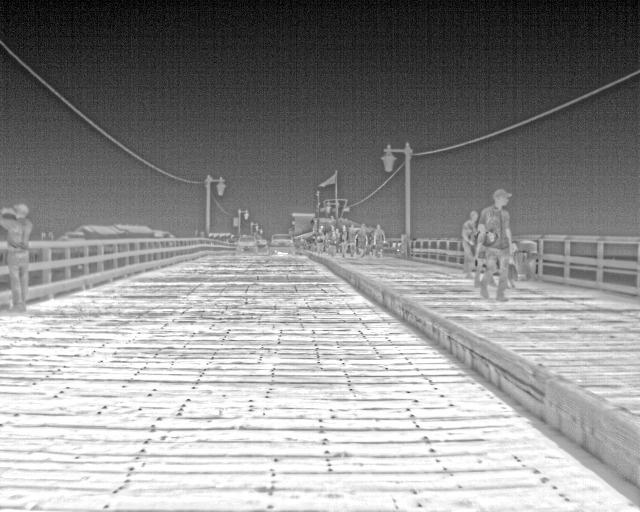bicycle: (269, 234, 296, 256), (234, 234, 257, 256), (252, 238, 269, 252)
empty: (478, 190, 516, 300), (0, 204, 36, 313), (463, 210, 480, 278), (372, 223, 389, 256), (354, 225, 370, 257), (346, 224, 360, 257), (337, 224, 349, 258), (312, 227, 326, 256)
